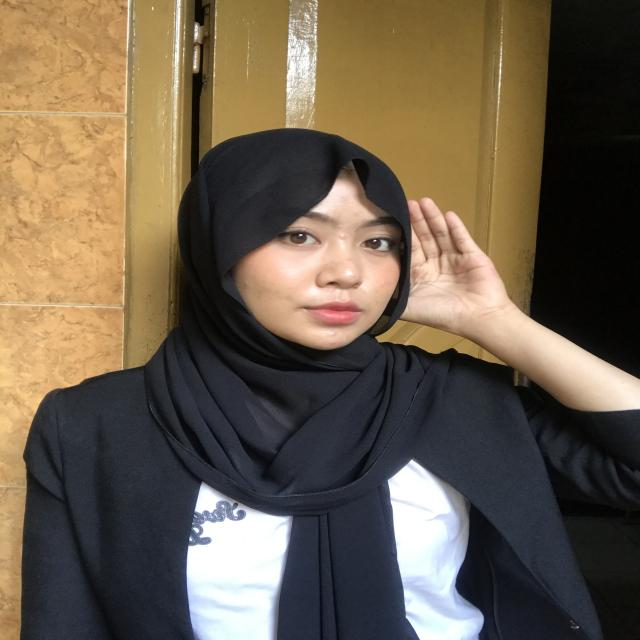mendengar: (369, 188, 518, 358)
